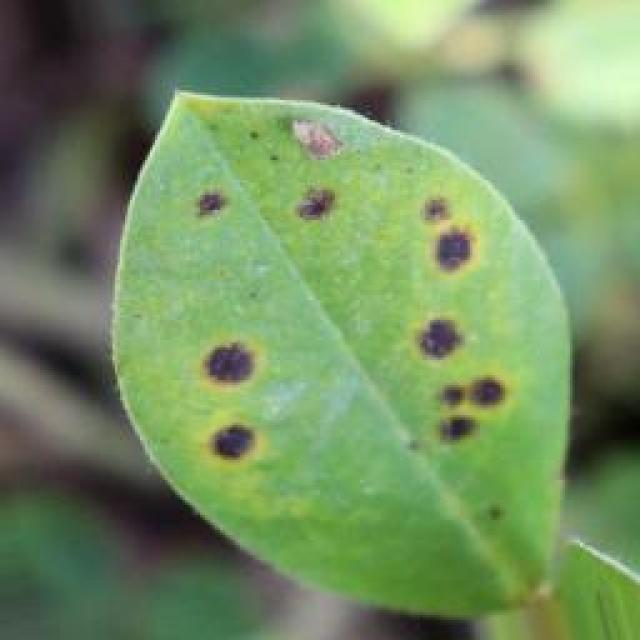Yellowish: (120, 56, 601, 580)
